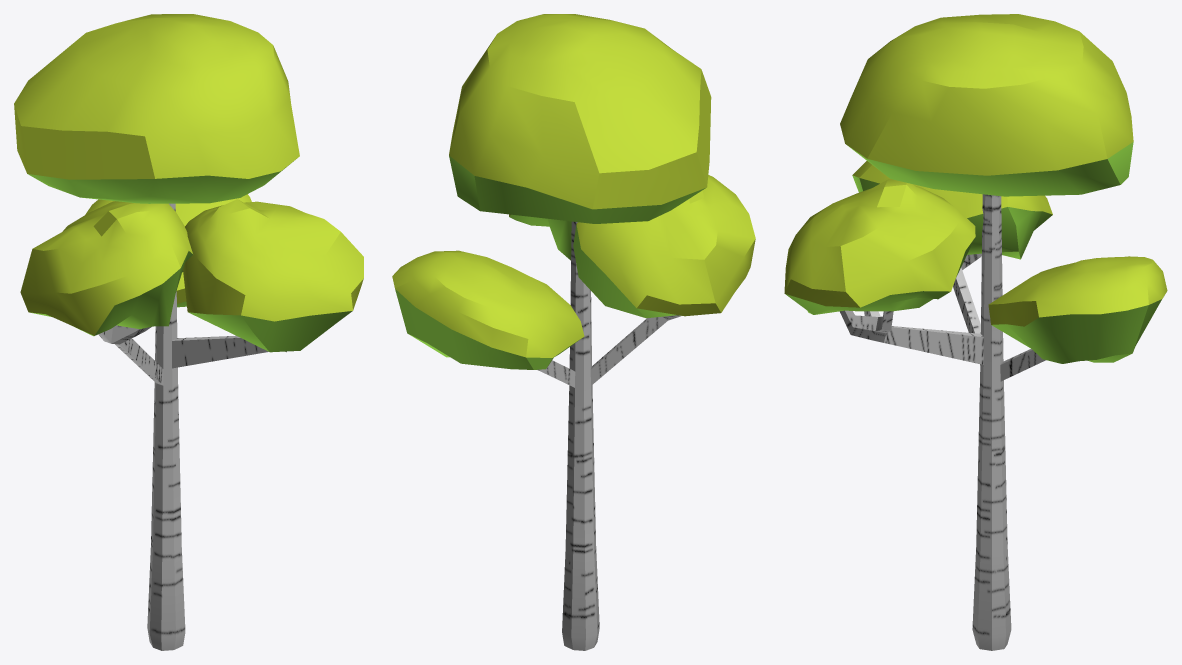
Rendered from Tree.fbx.
3 views of the same model, side by side, from view 1: azimuth 30°, elevation 25°; view 2: azimuth 150°, elevation 25°; view 3: azimuth 270°, elevation 25° (orthographic). The views are drawn at different scales.
Parts seen in each view (by area): view 1: Tree; view 2: Tree; view 3: Tree.
Boxes of the visible parts, bbox=[...] form: Tree: bbox=[14, 14, 363, 650]; Tree: bbox=[392, 14, 755, 650]; Tree: bbox=[784, 14, 1167, 650].
Size of the model in its own units: 3900 by 8543 by 4752.
